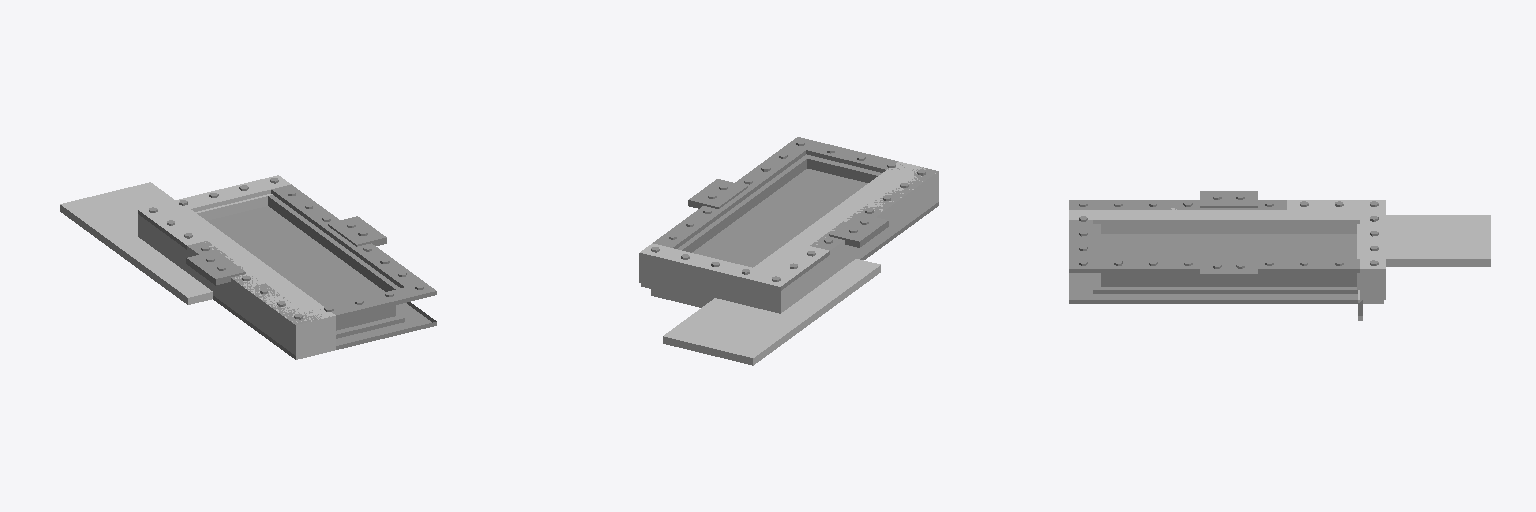
Rendered from aucman_vault_window_c.obj.
3 renders of one model, left to right at view 1: azimuth 30°, elevation 25°; view 2: azimuth 150°, elevation 25°; view 3: azimuth 270°, elevation 25°, orthographic.
Parts seen in each view (by area): view 1: g_g, g_glass, c_glass, c_box_001, c_box_002, c_box_004, c_box_008, c_box_003; view 2: g_g, c_glass, g_glass, c_box_003, c_box_001, c_box_002, c_box_004; view 3: g_g, c_box_002, g_glass, c_glass, c_box_004, c_box_003, c_box_001.
Boxes of the visible parts, x1=… form: g_g: x1=138, y1=178, x2=436, y2=359; g_glass: x1=208, y1=206, x2=384, y2=306; c_glass: x1=60, y1=182, x2=212, y2=304; c_box_001: x1=149, y1=213, x2=315, y2=359; c_box_002: x1=170, y1=208, x2=335, y2=354; c_box_004: x1=139, y1=177, x2=290, y2=243; c_box_008: x1=195, y1=194, x2=272, y2=220; c_box_003: x1=138, y1=175, x2=287, y2=240; g_g: x1=651, y1=137, x2=938, y2=290; c_glass: x1=663, y1=259, x2=880, y2=365; g_glass: x1=692, y1=169, x2=867, y2=267; c_box_003: x1=639, y1=244, x2=791, y2=313; c_box_001: x1=772, y1=166, x2=938, y2=304; c_box_002: x1=752, y1=161, x2=917, y2=272; c_box_004: x1=641, y1=243, x2=792, y2=307; g_g: x1=1069, y1=191, x2=1378, y2=315; c_box_002: x1=1069, y1=210, x2=1362, y2=233; g_glass: x1=1101, y1=234, x2=1356, y2=258; c_glass: x1=1386, y1=215, x2=1490, y2=266; c_box_004: x1=1360, y1=200, x2=1383, y2=303; c_box_003: x1=1363, y1=200, x2=1385, y2=299; c_box_001: x1=1171, y1=200, x2=1362, y2=209.
Size of the model in its own units: 180 by 53 by 362.